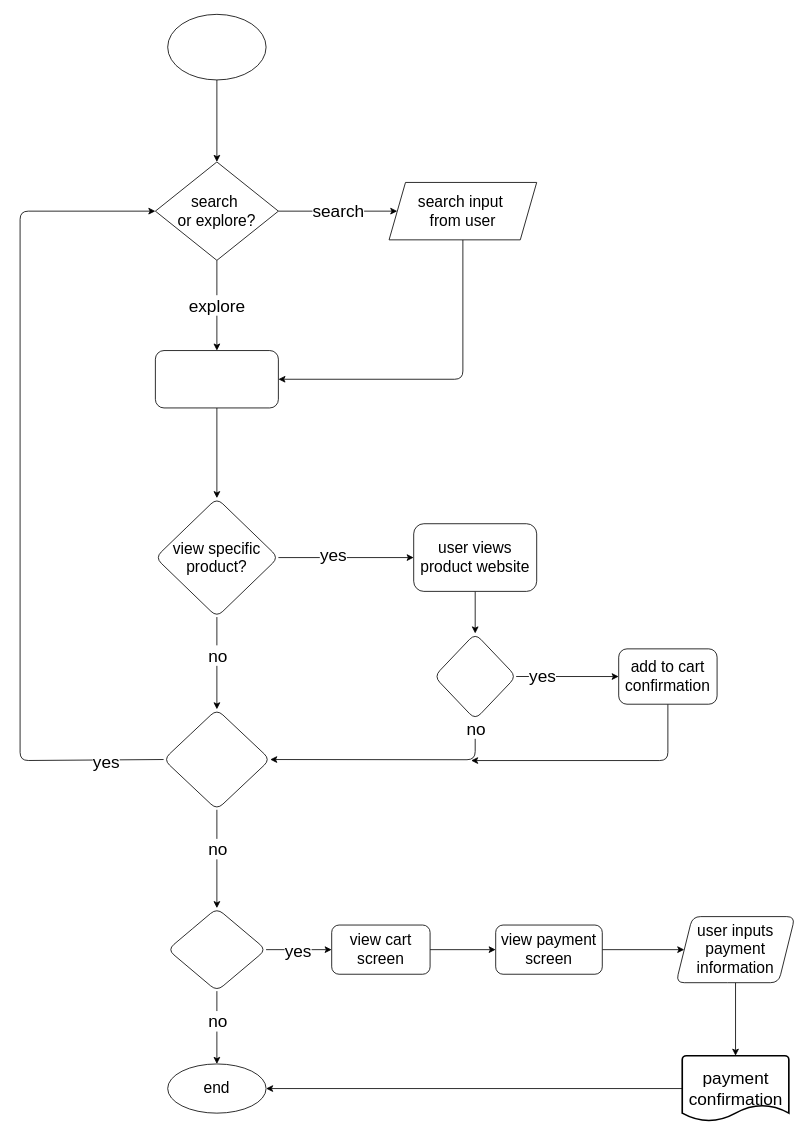
The diagram is 809 pixels wide and 1137 high, and some of its shapes have lost their labels. The centre of each missing label's shape, as x and y in pixels:
add to cart?: pixel 474 676
checkout?: pixel 216 949
continue shopping?: pixel 216 759
start: pixel 216 47
user view products: pixel 216 379
